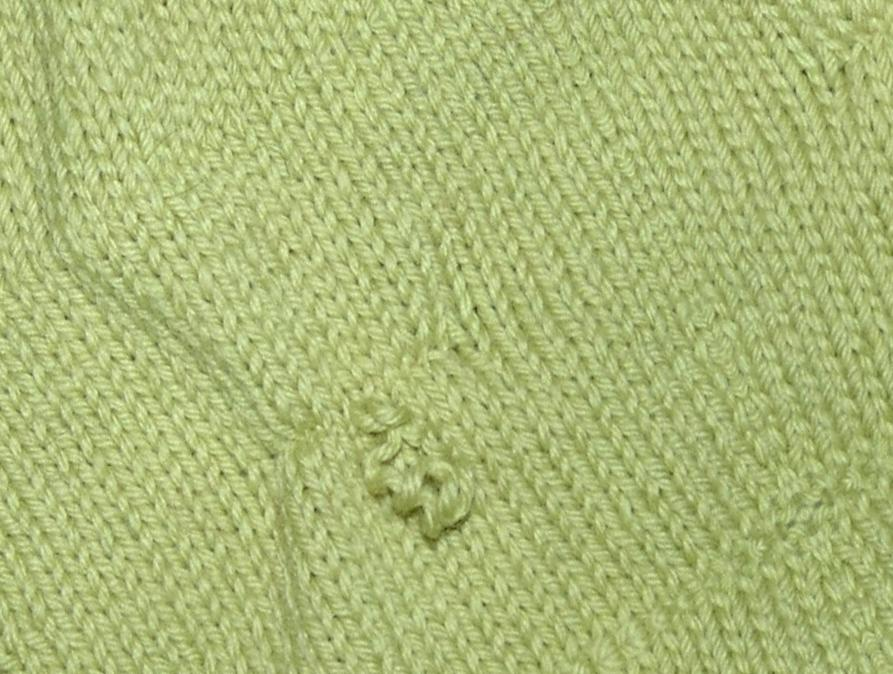knot: (351, 389, 490, 544)
